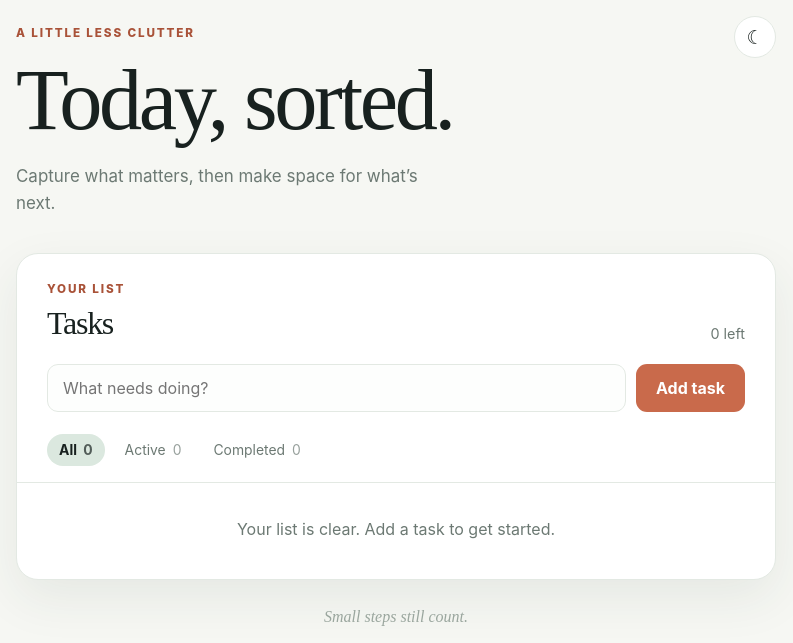
Test case: todo app › toggles and deletes tasks
This screenshot has width=793, height=643.
Type "Ship it" into the field named "Add a task" at (336, 388), box [47,364,626,412]
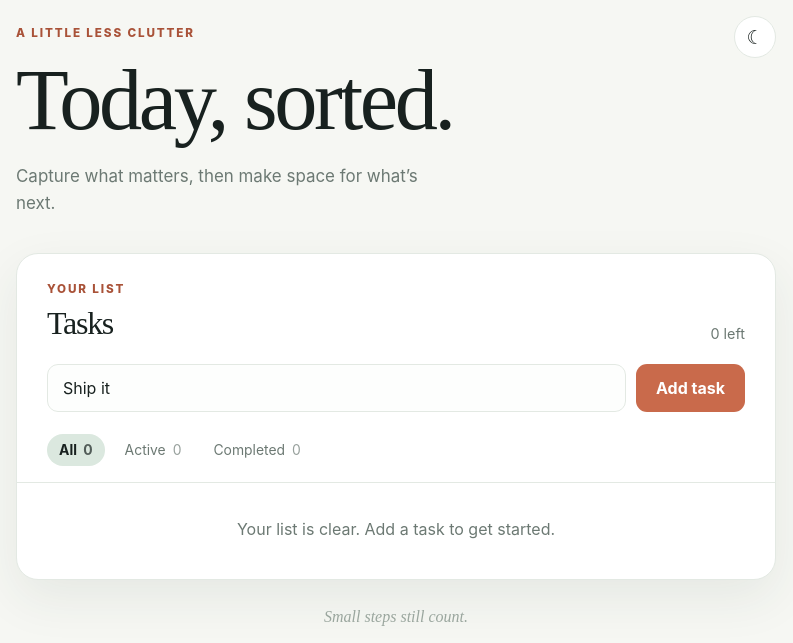
Submit the form named "Add a task", box [17,364,775,434]
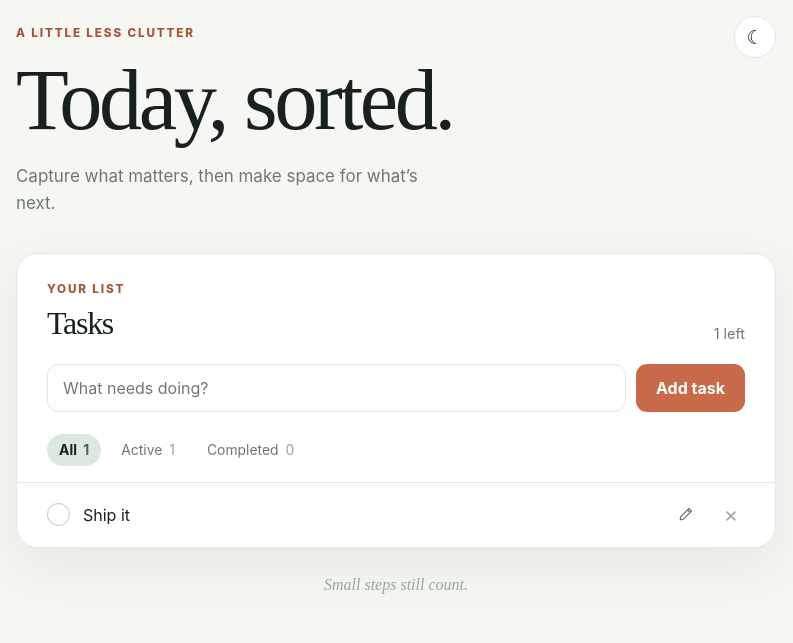
Click the button named "Complete Ship it" at (58, 515), box [47,503,70,526]
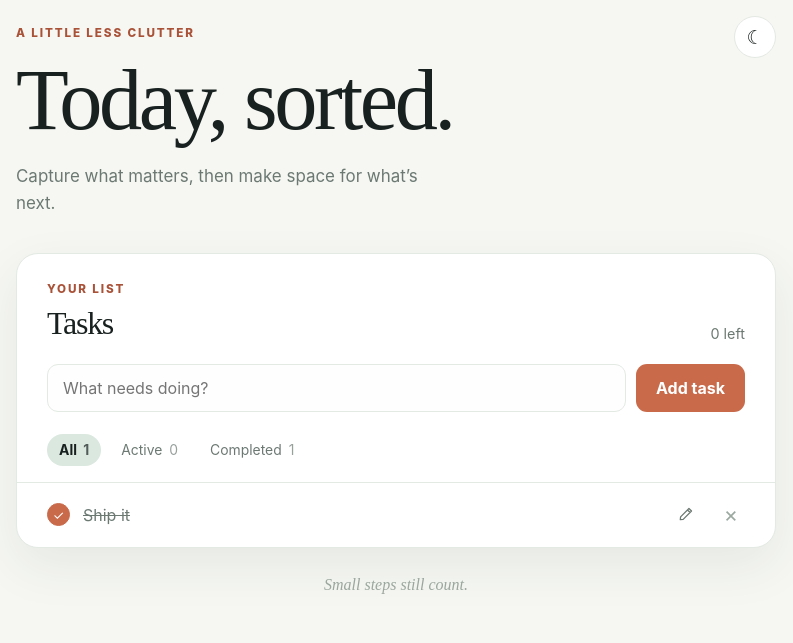
Result: the button named "Mark Ship it active" is pressed at [47,503,70,526]
Click the button named "Delete Ship it" at (731, 515), box [717,497,745,533]
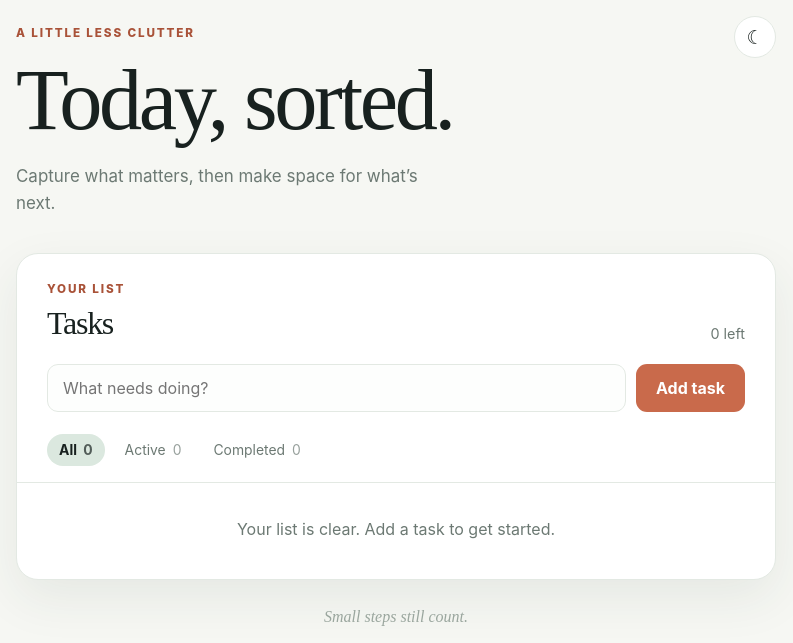
Result: the text "Ship it" is gone
